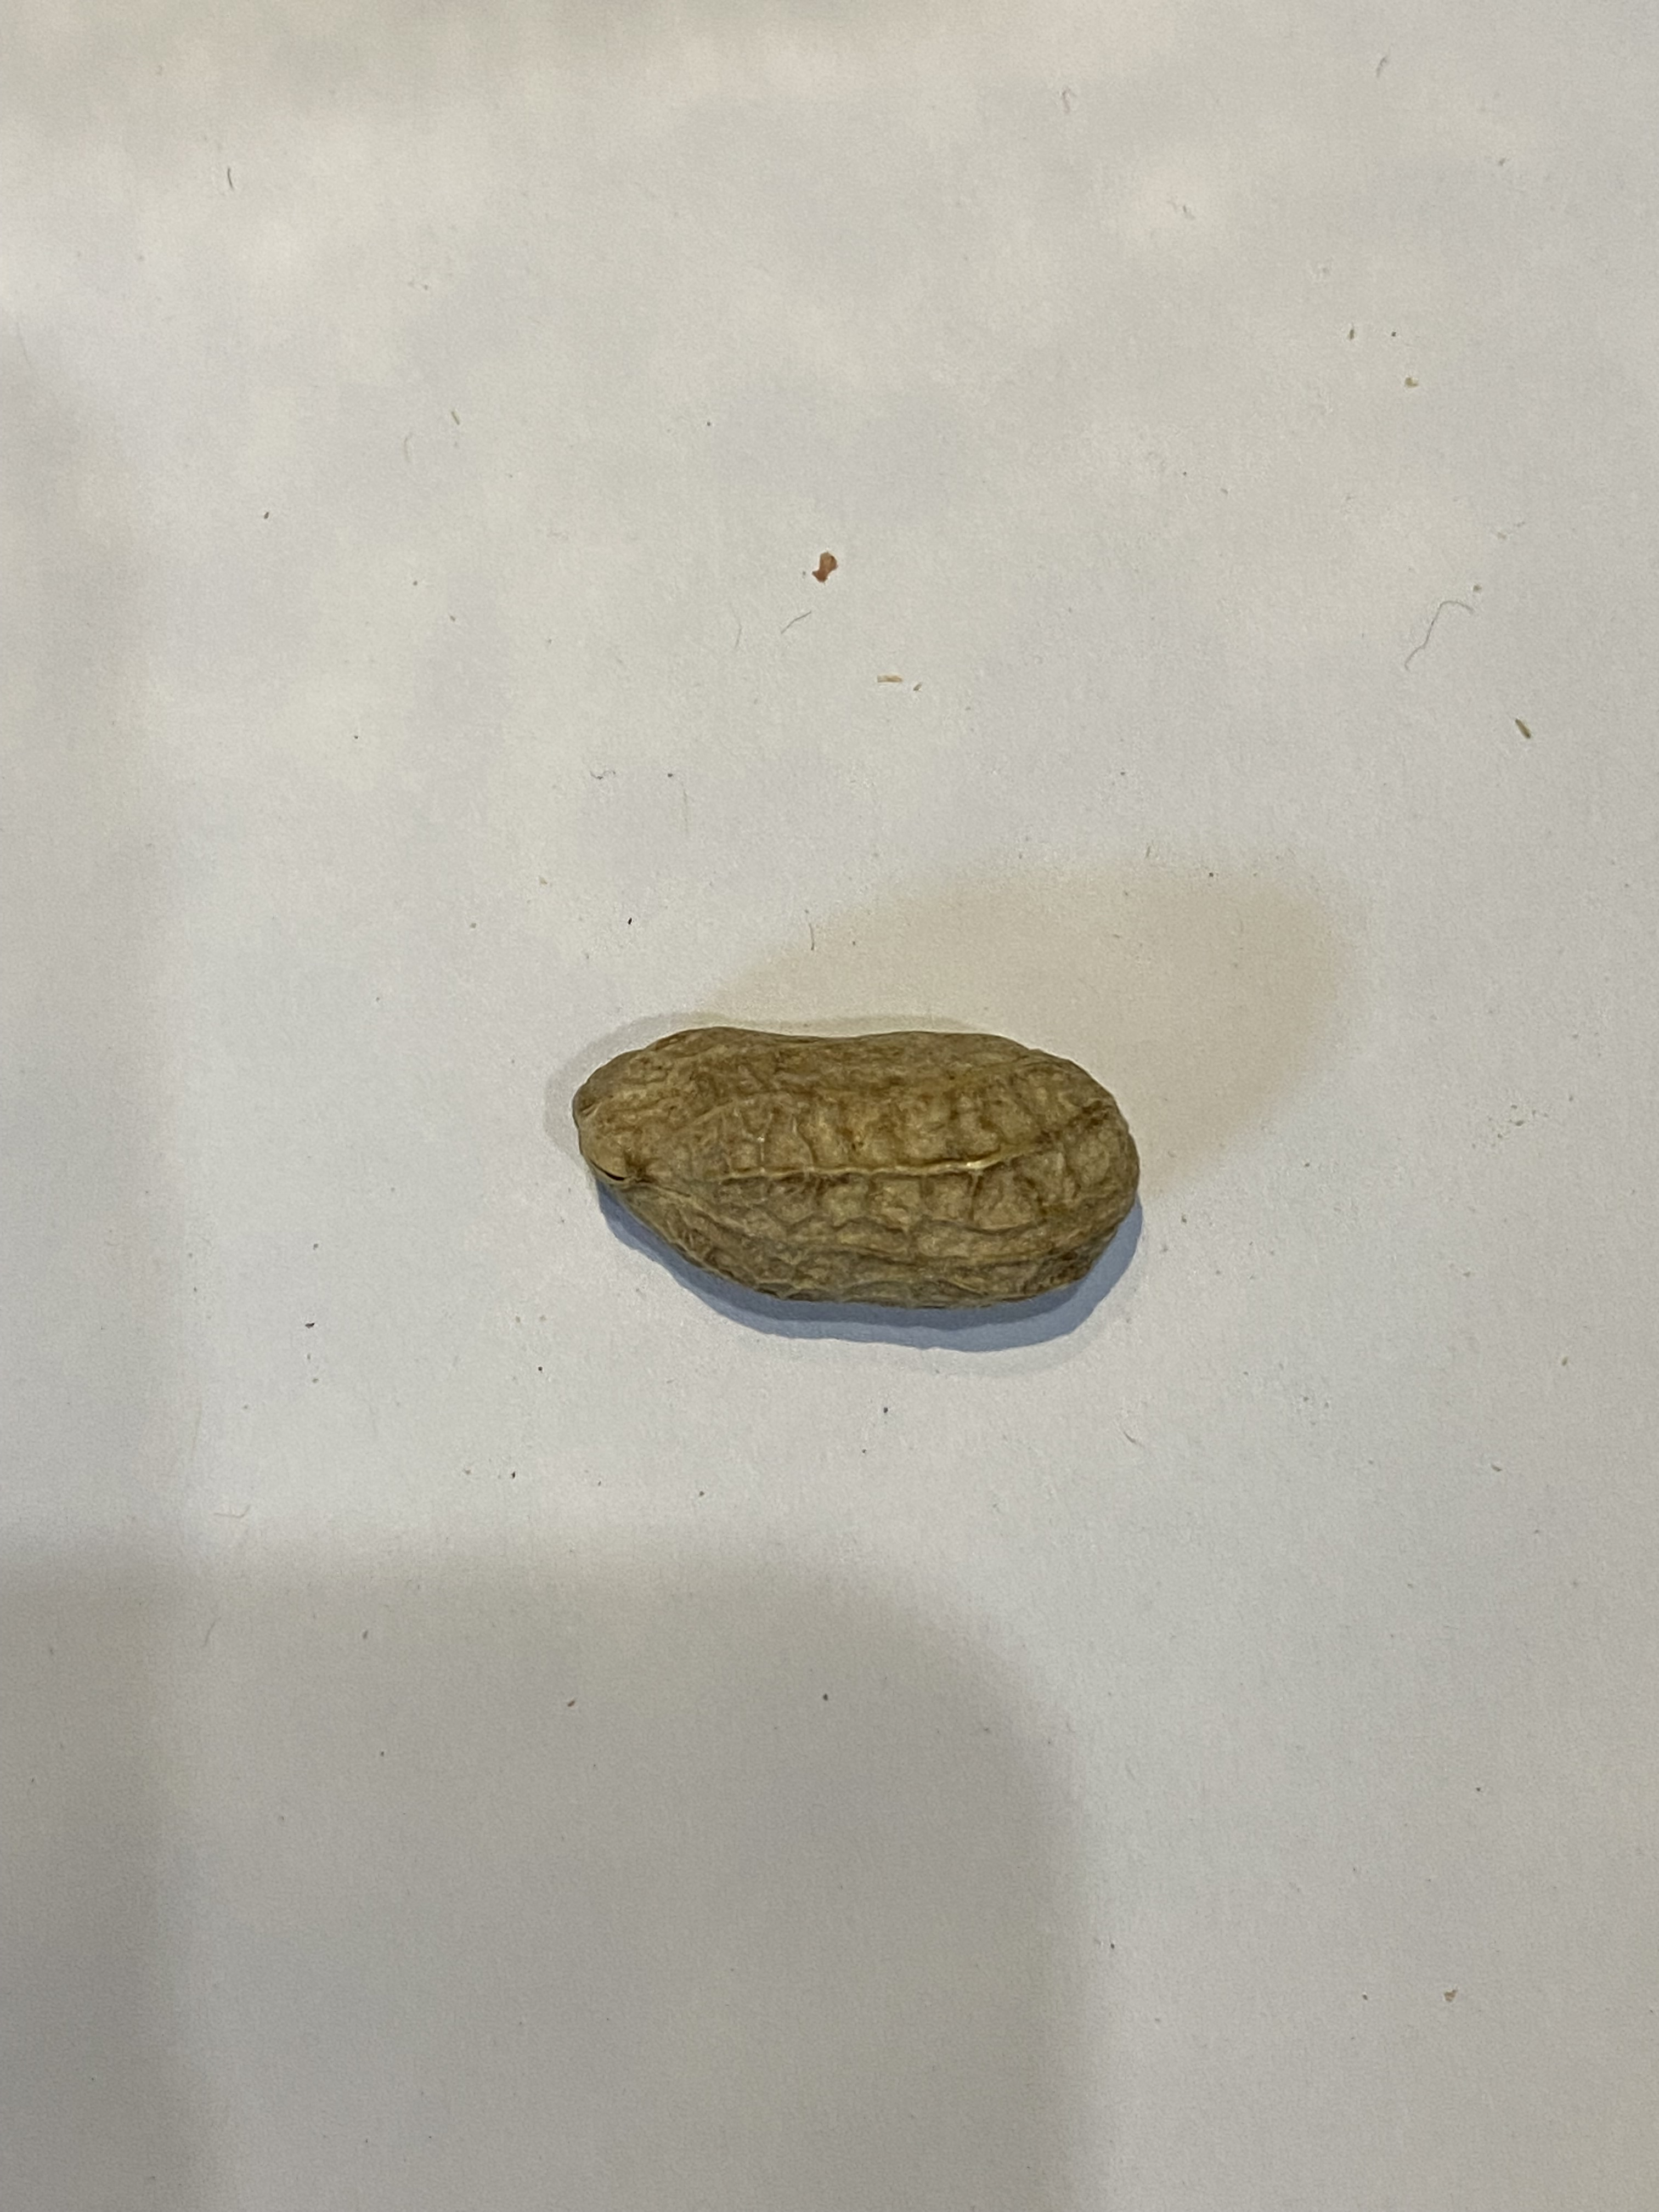kacang2: (547, 1014, 1178, 1315)
